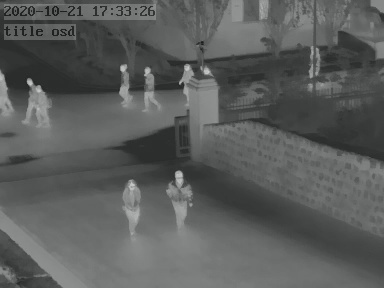person: (167, 169, 193, 231), (122, 177, 142, 238), (22, 75, 38, 125), (1, 71, 19, 115), (117, 62, 133, 106), (180, 61, 196, 105), (143, 65, 158, 111), (34, 84, 49, 127)
